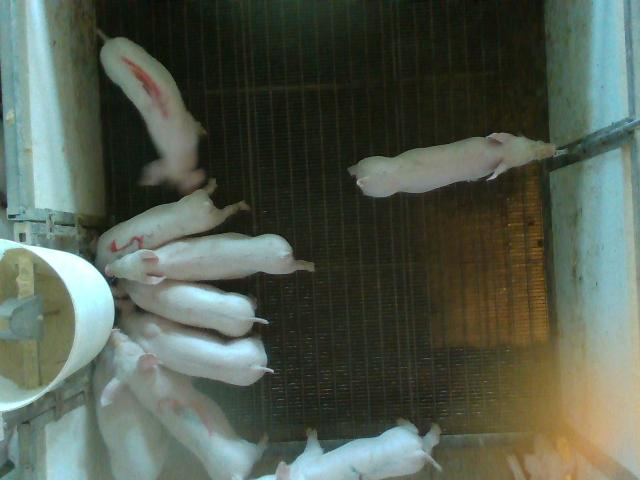pig-1: (98, 30, 205, 193)
pig-3: (101, 330, 266, 479)
pig-5: (95, 179, 250, 272)
